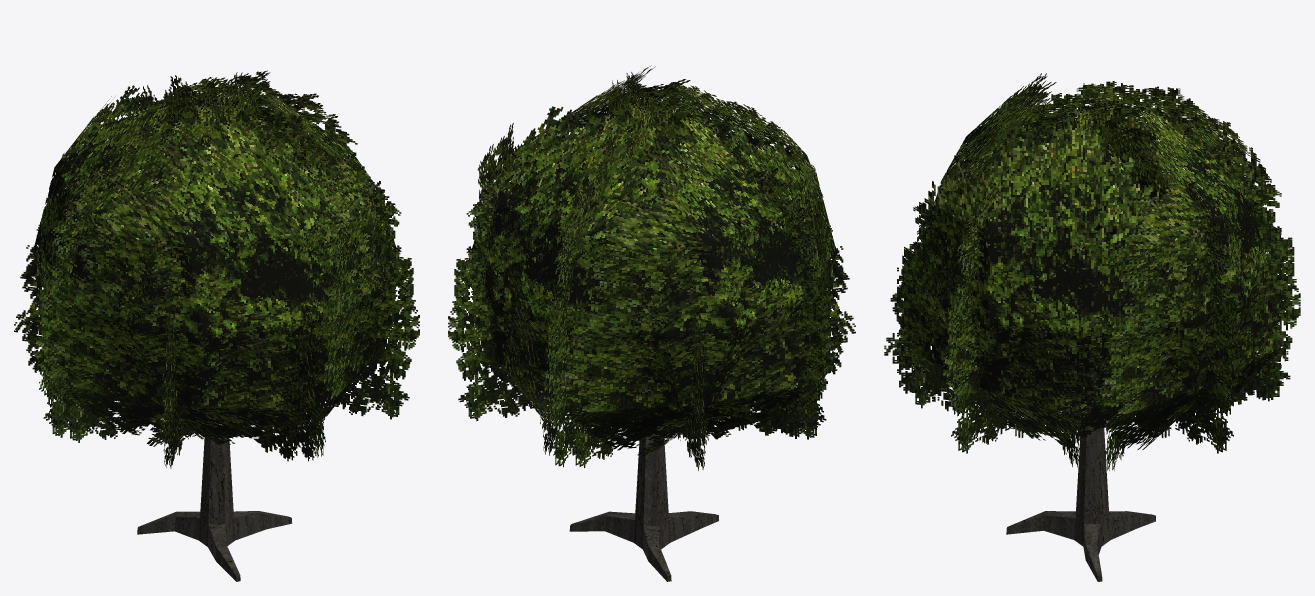
Rendered from tree03_spring.glb.
3 renders of one model, left to right at view 1: azimuth 30°, elevation 25°; view 2: azimuth 150°, elevation 25°; view 3: azimuth 270°, elevation 25°, orthographic.
Visible parts, largest first — view 1: tree03; view 2: tree03; view 3: tree03.
Part boxes in pixels (x1,y1,x2,y2): tree03: [14, 70, 419, 581]; tree03: [448, 65, 855, 581]; tree03: [884, 73, 1300, 581].
Size of the model in its own units: 6.72 by 7.87 by 6.72.
1 material, 1 textured.
